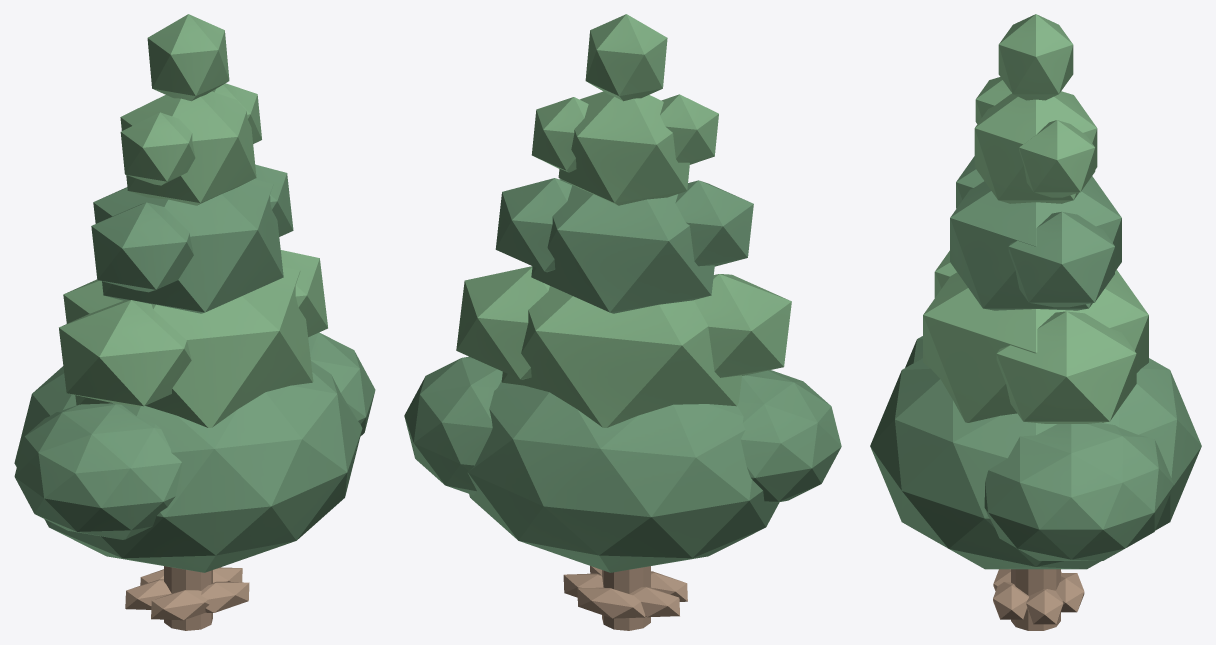
Rendered from pine-tree.glb.
3 views of the same model, side by side, from view 1: azimuth 30°, elevation 25°; view 2: azimuth 150°, elevation 25°; view 3: azimuth 270°, elevation 25° (orthographic).
Visible parts, largest first — view 1: Pine_Foliage, Pine_Trunk; view 2: Pine_Foliage, Pine_Trunk; view 3: Pine_Foliage, Pine_Trunk.
Boxes of the visible parts, x1=… form: Pine_Foliage: x1=14, y1=14, x2=375, y2=572; Pine_Trunk: x1=125, y1=566, x2=249, y2=630; Pine_Foliage: x1=404, y1=14, x2=841, y2=572; Pine_Trunk: x1=563, y1=566, x2=687, y2=630; Pine_Foliage: x1=870, y1=14, x2=1201, y2=569; Pine_Trunk: x1=993, y1=569, x2=1084, y2=630.
Bounding box in the file's own units: 2.72 × 4.27 × 2.12.
Materials: 3 (2 with a texture image).
